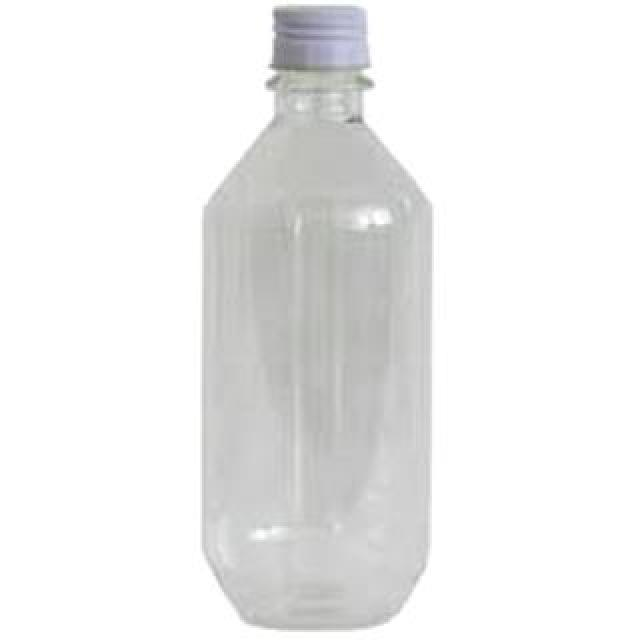Pet_Bottle: (200, 32, 436, 634)
